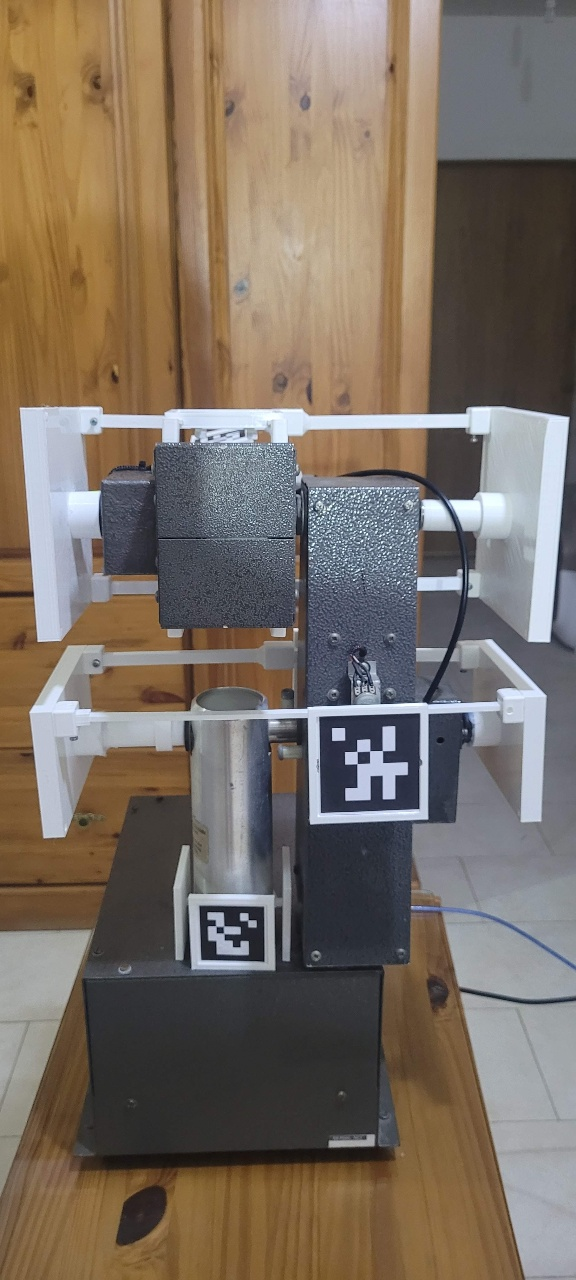Robot: (42, 401, 553, 1157)
